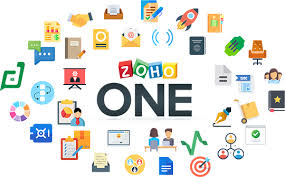zoho: (117, 58, 179, 79)
